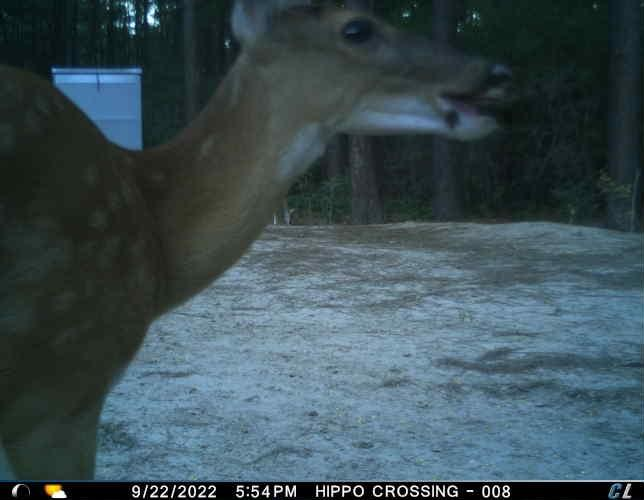Deer: (0, 0, 524, 481)
